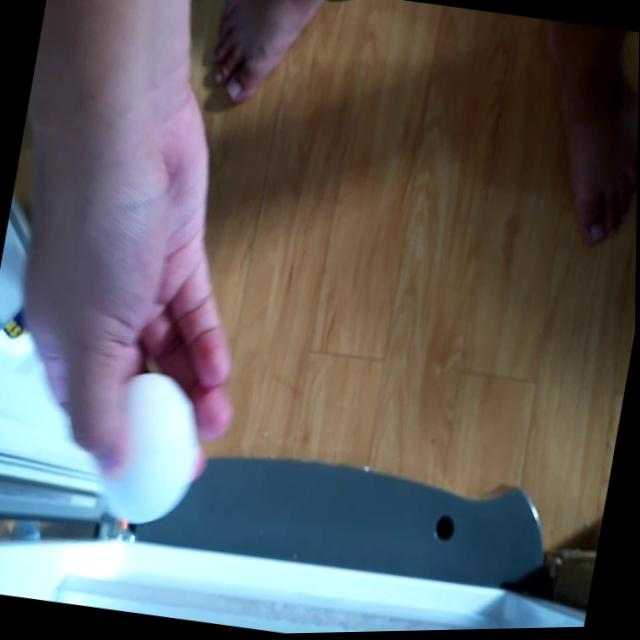egg: (83, 358, 218, 537)
